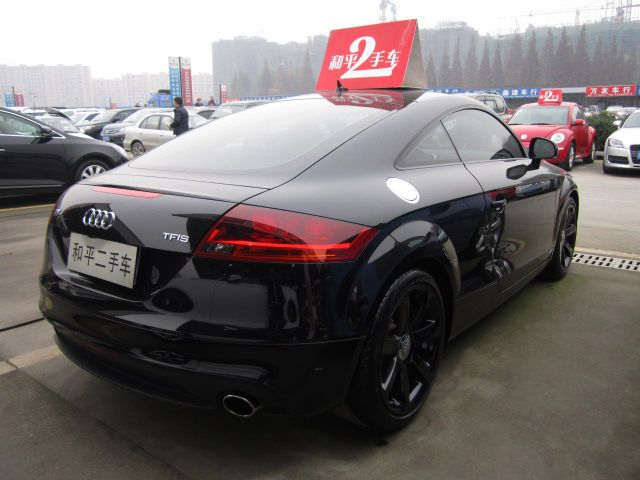car: (54, 76, 578, 362)
